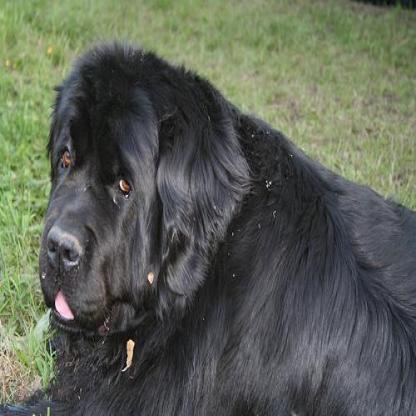Newfoundland: (0, 39, 414, 413)
